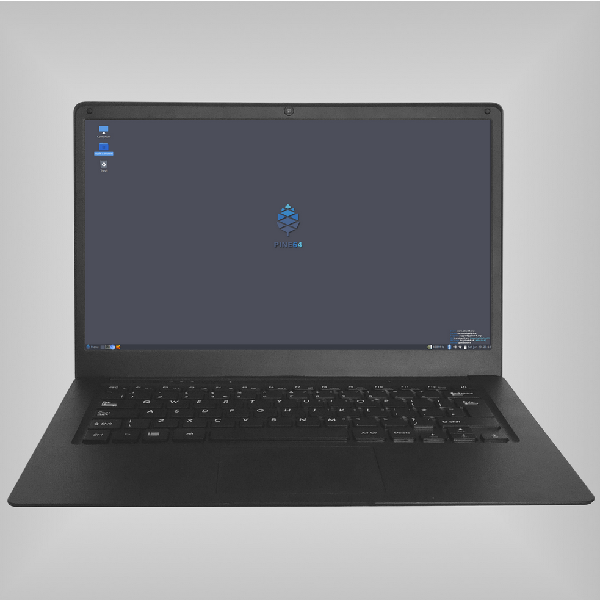Laptop: (3, 91, 599, 510)
